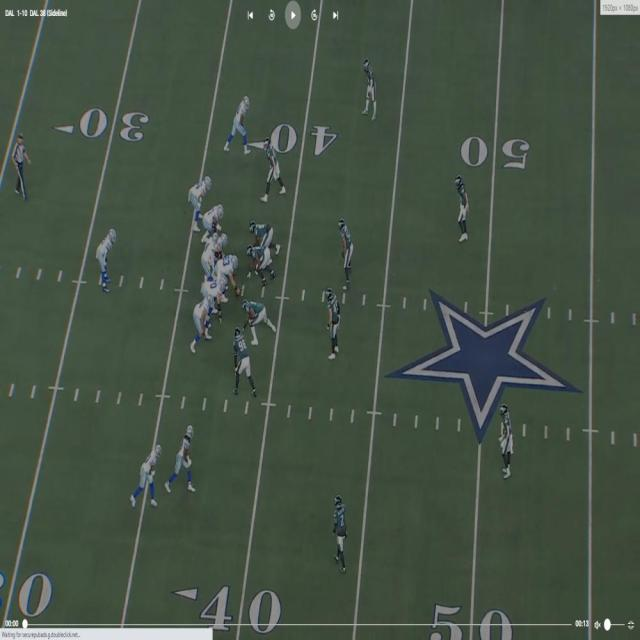center: (222, 249, 241, 290)
db: (499, 406, 513, 473), (335, 497, 347, 571), (456, 176, 469, 242), (364, 61, 374, 116)
lb: (232, 326, 252, 395), (264, 135, 283, 201), (343, 220, 353, 292), (328, 296, 339, 361)
qb: (201, 234, 218, 279)
skill: (226, 94, 252, 154), (134, 448, 159, 507), (173, 429, 193, 491), (100, 229, 116, 287), (192, 176, 209, 227)
